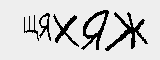Ж: (103, 10, 153, 54)
Х: (51, 13, 82, 47)
Щ: (20, 14, 39, 41)
Я: (82, 7, 109, 54), (37, 11, 55, 43)
